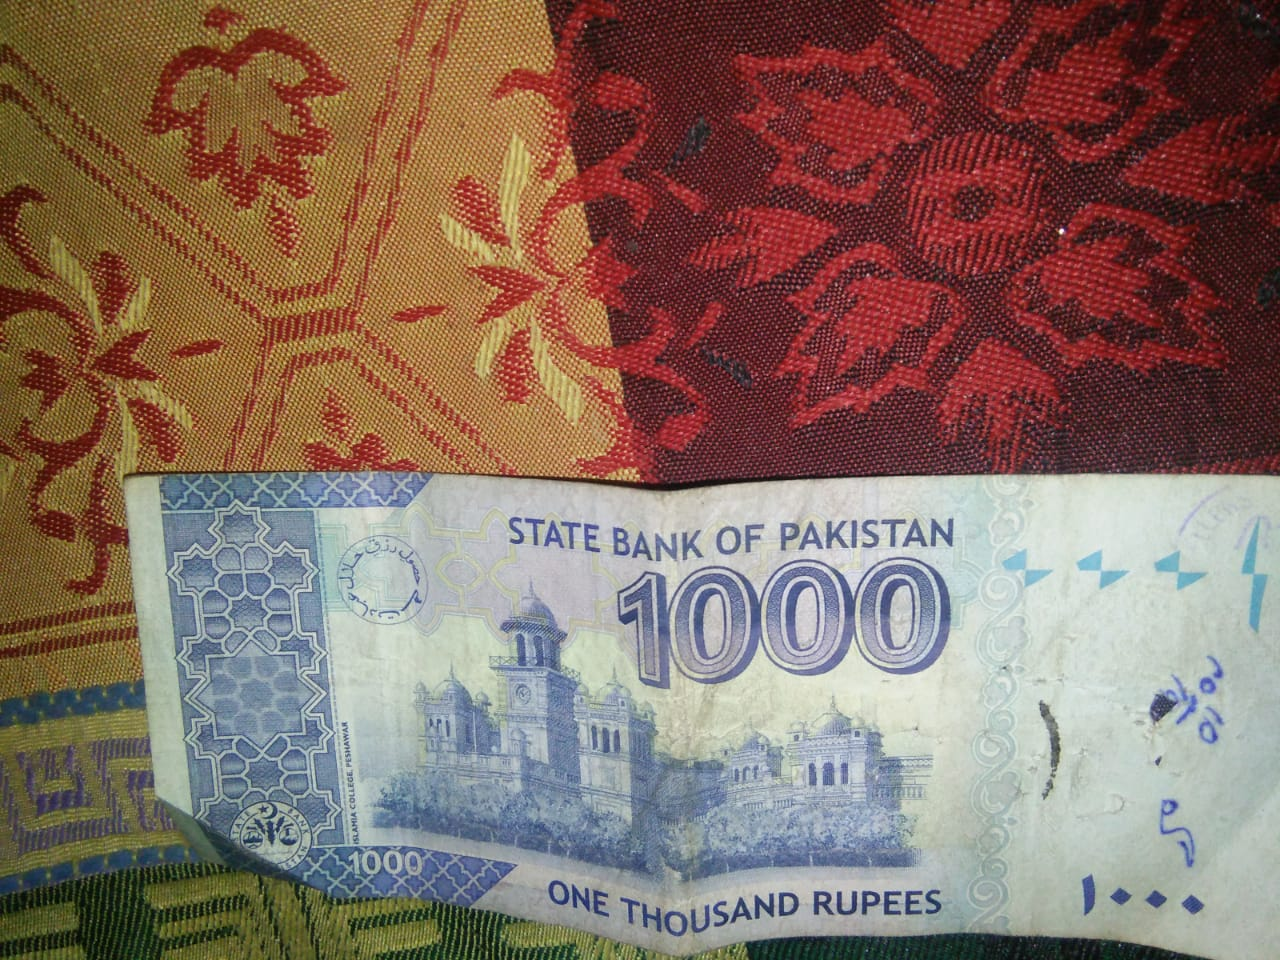1000 rupee: (80, 431, 1267, 952)
